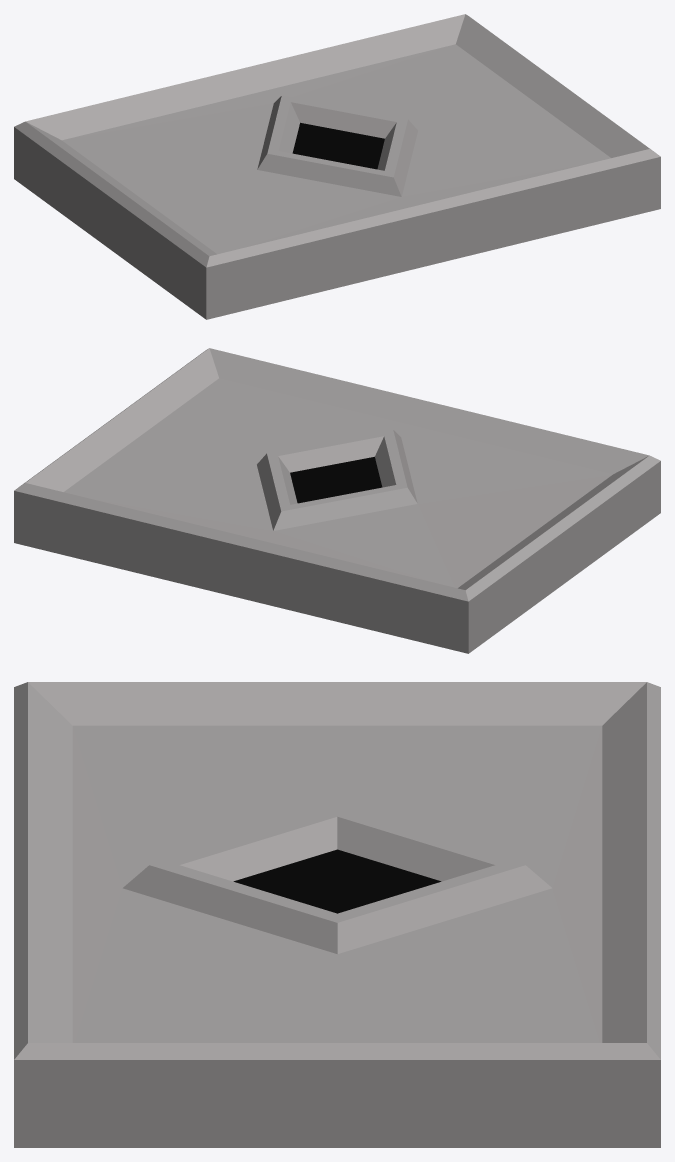
File: SingleSpikeMetalTrap_4.fbx
3 views of the same model, one above another, from view 1: azimuth 30°, elevation 25°; view 2: azimuth 150°, elevation 25°; view 3: azimuth 270°, elevation 25° (orthographic). The views are drawn at different scales.
Visible parts, largest first — view 1: SingleSpikeMetalTrap_4; view 2: SingleSpikeMetalTrap_4; view 3: SingleSpikeMetalTrap_4.
Part boxes in pixels (x1=…): SingleSpikeMetalTrap_4: x1=14, y1=14, x2=660, y2=319; SingleSpikeMetalTrap_4: x1=14, y1=348, x2=660, y2=653; SingleSpikeMetalTrap_4: x1=14, y1=682, x2=660, y2=1147.
Size of the model in its own units: 30 by 3.71 by 22.
